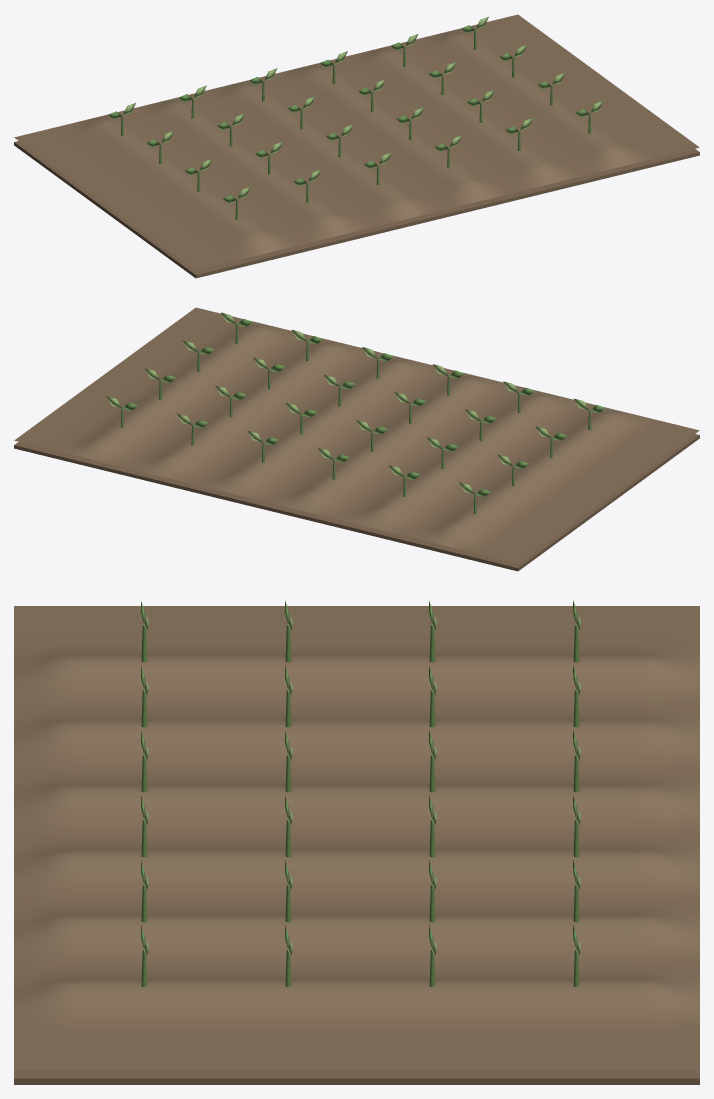
The model's file is field_stage2.glb.
The picture shows the model from 3 angles, top to bottom: view 1: azimuth 30°, elevation 25°; view 2: azimuth 150°, elevation 25°; view 3: azimuth 270°, elevation 25°; orthographic projection. The views are drawn at different scales.
Bounding box in the file's own units: 8 × 0.665 × 5.
